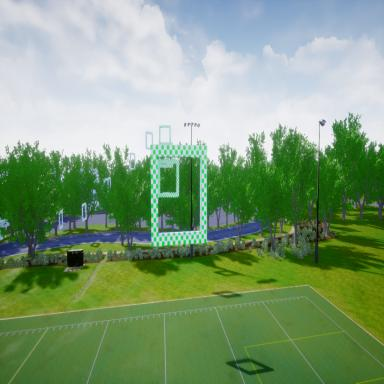gate: (150, 146, 208, 248), (158, 159, 180, 198)
